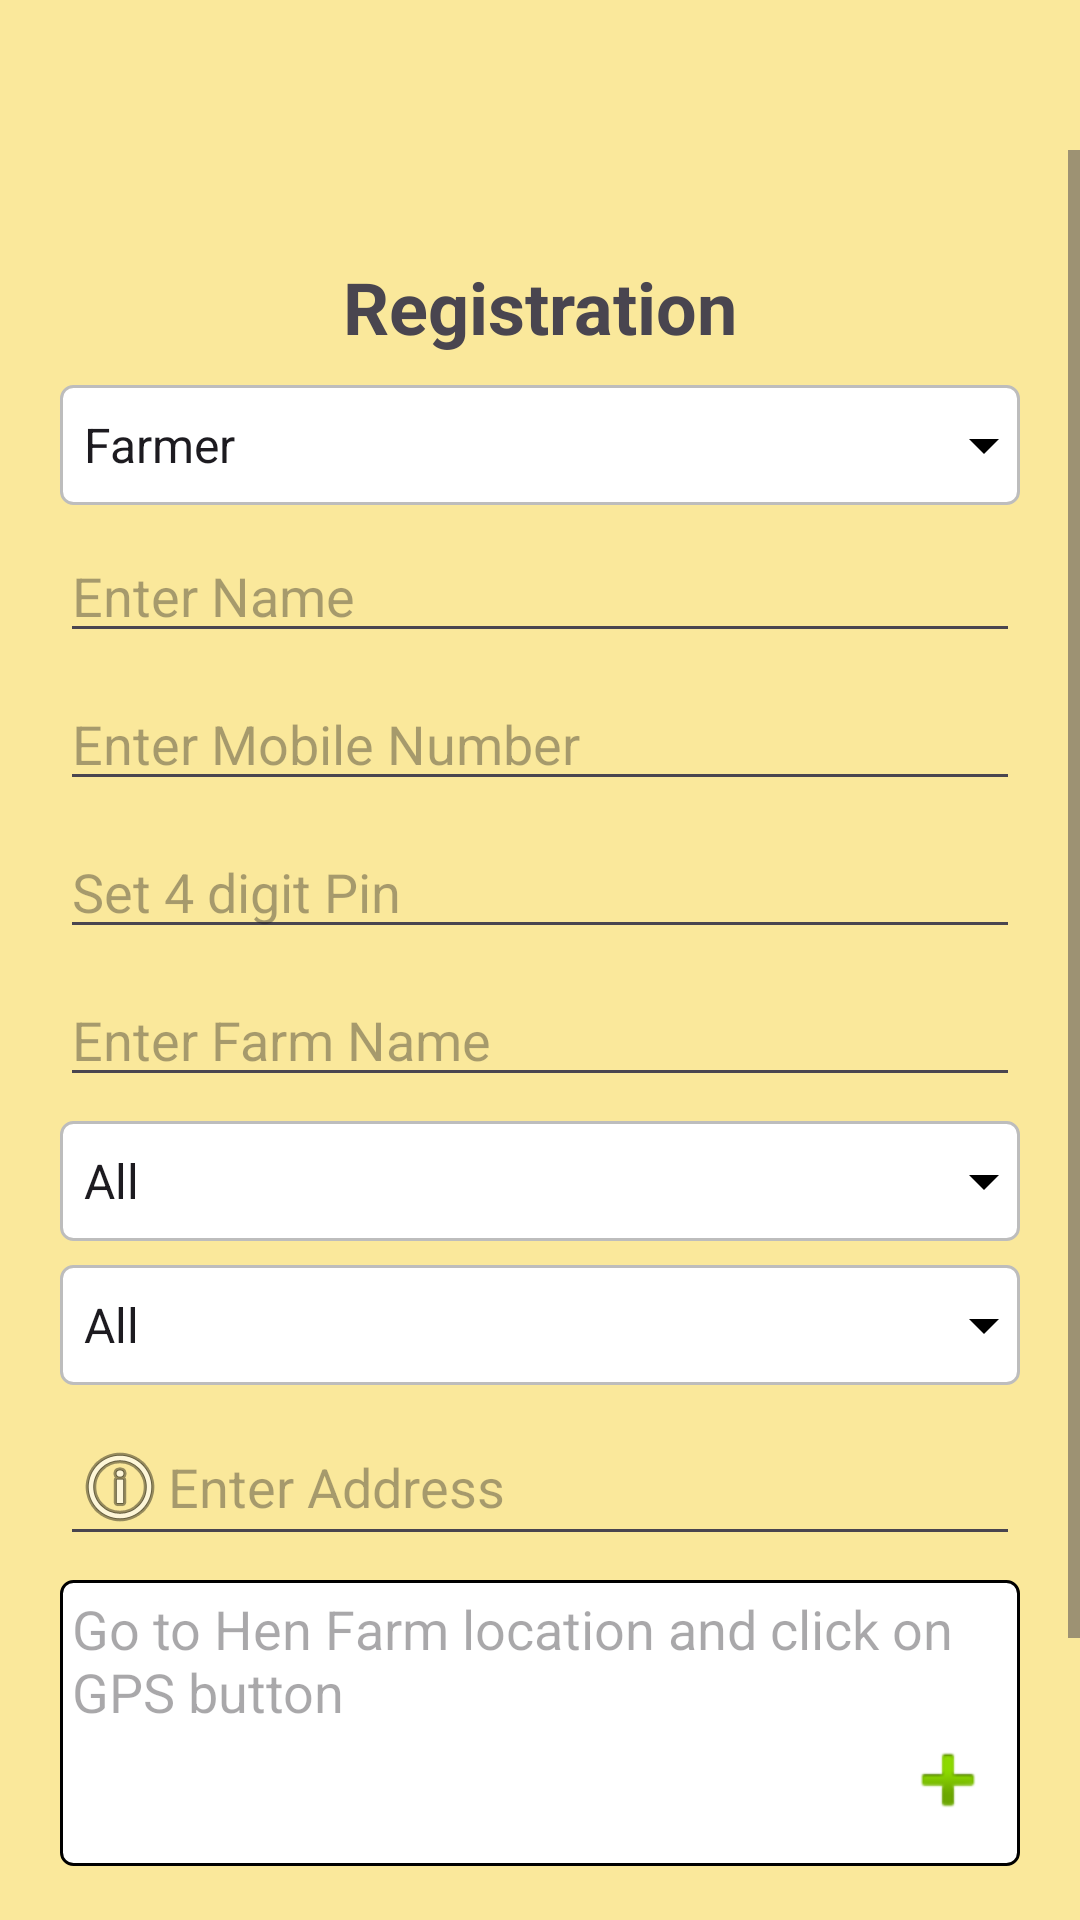

Icon bounding boxes for this 1080px x 1920px phone screenshot, format bbox=[x1, y1, x2, y2]:
add: bbox=[921, 1753, 975, 1807]
